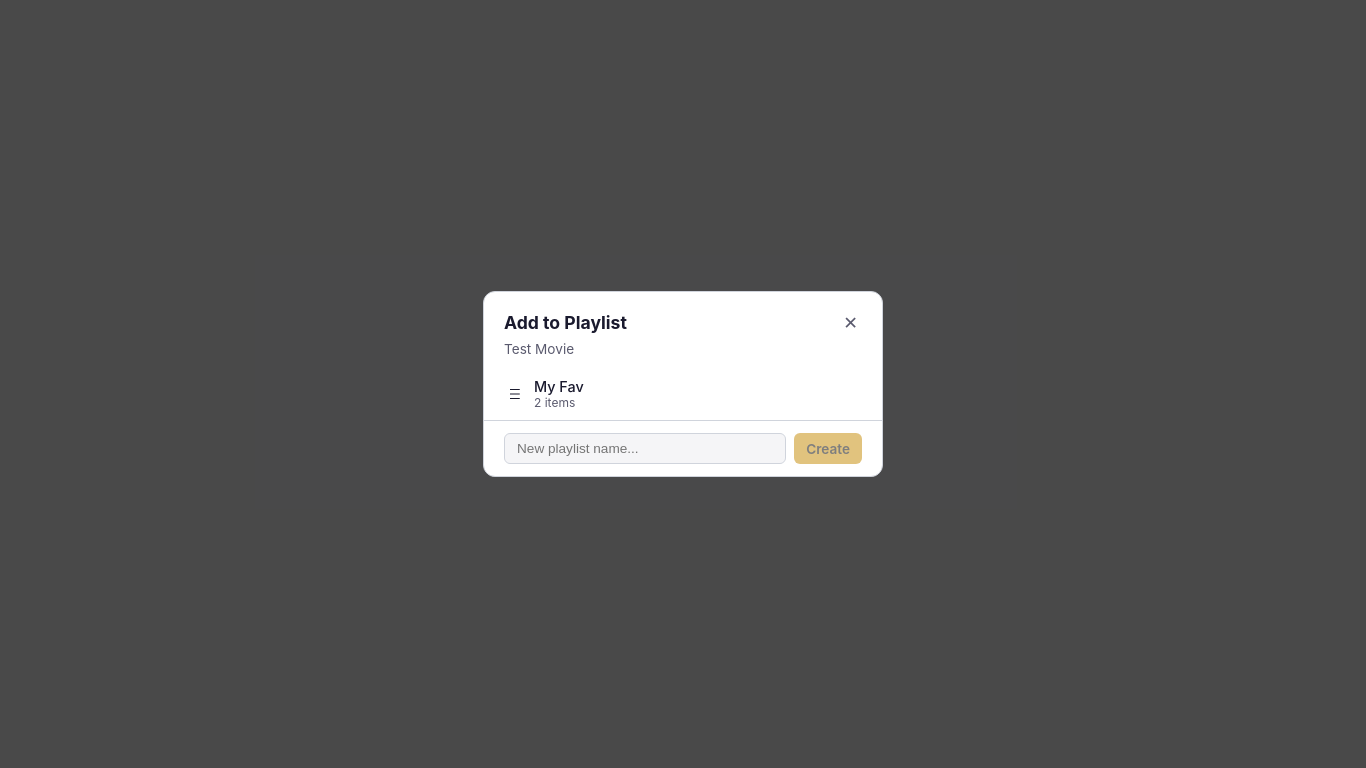
Test case: PlaylistPicker › shows error when addToPlaylist fails
Step 1. Click the text "My Fav" → x=559, y=387, box [534,378,584,395]
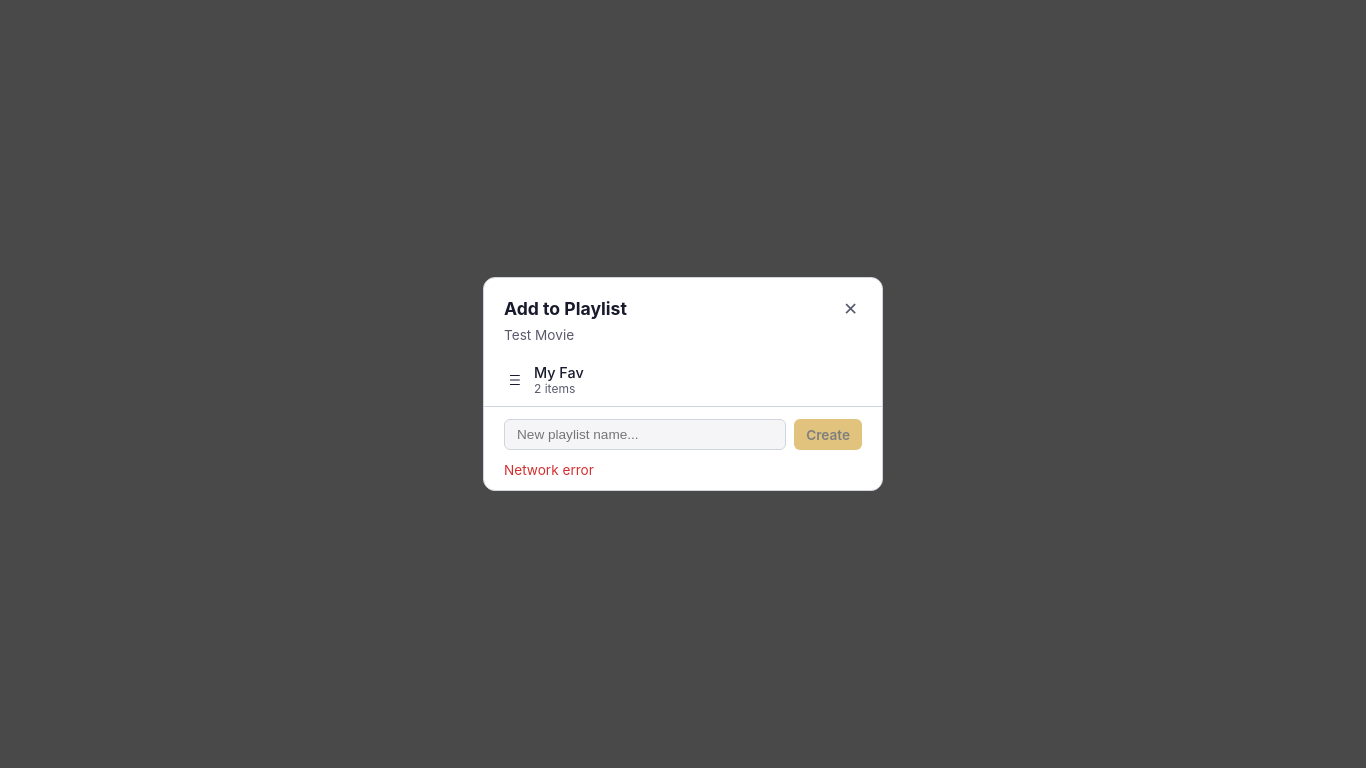
Result: the text "Network error" is shown at [504,462,594,478]
